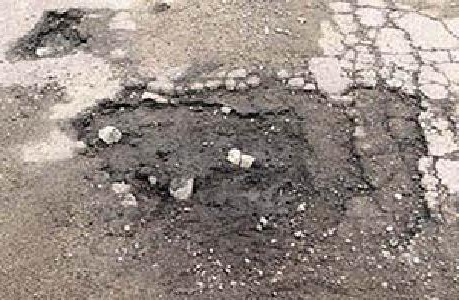pothole: (70, 75, 366, 274), (11, 5, 93, 60)
